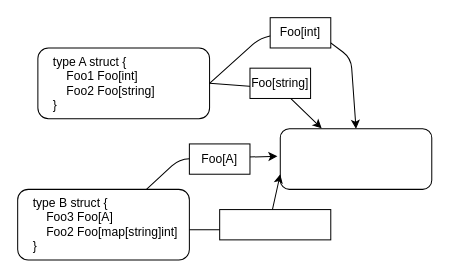
This 449x278 diagram has some shape labels left out. The box of each missing label's shape, as (x1, y1, x2, y2) in pixels:
Foo[map[string]int]: (219, 209, 331, 240)
type Foo[T any] struct { // .... }: (279, 128, 432, 189)
